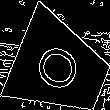O_SE: (31, 38, 89, 98)
